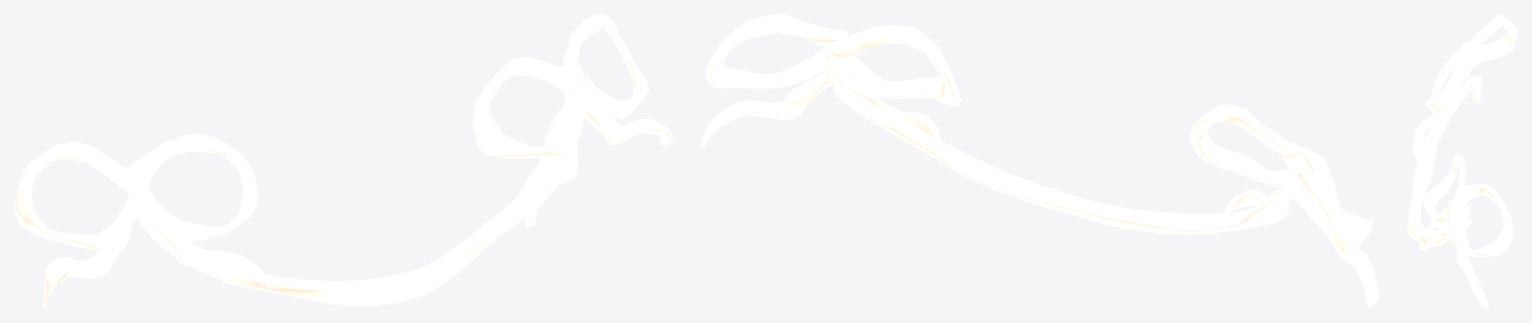
Rendered from wstazki_bok.glb.
3 renders of one model, left to right at view 1: azimuth 30°, elevation 25°; view 2: azimuth 150°, elevation 25°; view 3: azimuth 270°, elevation 25°, orthographic. The views are drawn at different scales.
Parts seen in each view (by area): view 1: Cream_ribbon12; view 2: Cream_ribbon12; view 3: Cream_ribbon12.
Part boxes in pixels (left/top/right/bottom): Cream_ribbon12: left=14, top=14, right=672, bottom=308; Cream_ribbon12: left=701, top=14, right=1378, bottom=308; Cream_ribbon12: left=1407, top=14, right=1517, bottom=308.
Bounding box in the file's own units: 0.0783 × 0.0212 × 0.0173.
Materials: 1 (1 with a texture image).
